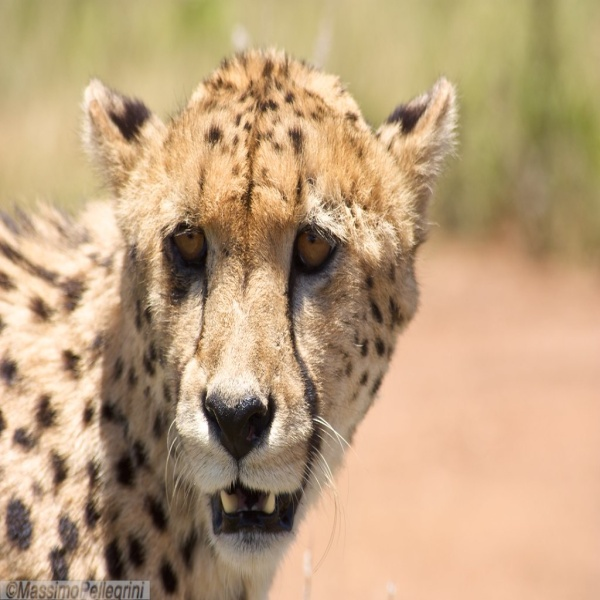Cheetah: (2, 41, 472, 600)
